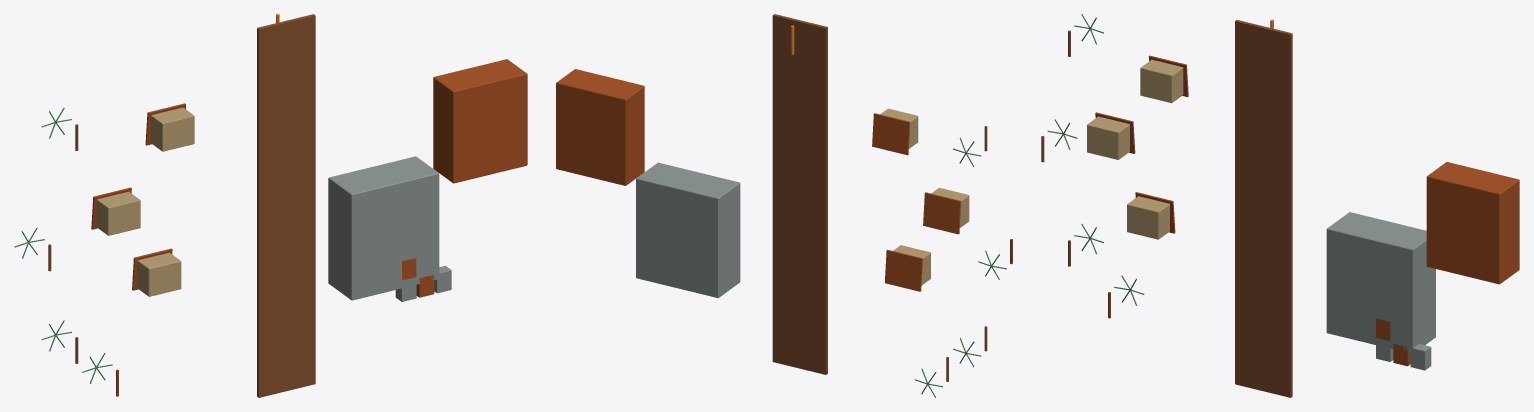
Rendered from pf_coast_run_port_town.glb.
The picture shows the model from 3 angles, left to right: view 1: azimuth 30°, elevation 25°; view 2: azimuth 150°, elevation 25°; view 3: azimuth 330°, elevation 25°; orthographic projection. The views are drawn at different scales.
Visible parts, largest first — view 1: town_pier, warehouse_a, warehouse_b, coast_house_wall_0, coast_house_wall_1, coast_house_wall_2; view 2: town_pier, warehouse_a, warehouse_b, coast_house_roof_1, coast_house_roof_2, coast_house_roof_0, coast_house_wall_2, coast_house_wall_1, coast_house_wall_0; view 3: town_pier, warehouse_a, warehouse_b, coast_house_wall_2, coast_house_wall_0, coast_house_wall_1, town_container_2.
Boxes of the visible parts, left/top/right/bottom form: town_pier: left=257, top=14, right=315, bottom=397; warehouse_a: left=328, top=156, right=439, bottom=300; warehouse_b: left=433, top=59, right=527, bottom=183; coast_house_wall_0: left=137, top=252, right=181, bottom=296; coast_house_wall_1: left=96, top=191, right=140, bottom=235; coast_house_wall_2: left=151, top=107, right=194, bottom=151; town_pier: left=772, top=14, right=827, bottom=374; warehouse_a: left=636, top=162, right=740, bottom=298; warehouse_b: left=556, top=69, right=644, bottom=185; coast_house_roof_1: left=923, top=192, right=961, bottom=234; coast_house_roof_2: left=872, top=113, right=910, bottom=155; coast_house_roof_0: left=885, top=249, right=922, bottom=291; coast_house_wall_2: left=880, top=108, right=918, bottom=148; coast_house_wall_1: left=931, top=187, right=969, bottom=227; coast_house_wall_0: left=893, top=245, right=930, bottom=285; town_pier: left=1235, top=20, right=1292, bottom=397; warehouse_a: left=1326, top=212, right=1435, bottom=353; warehouse_b: left=1426, top=162, right=1519, bottom=284; coast_house_wall_2: left=1140, top=59, right=1183, bottom=103; coast_house_wall_0: left=1127, top=196, right=1169, bottom=239; coast_house_wall_1: left=1087, top=116, right=1129, bottom=159; town_container_2: left=1410, top=344, right=1431, bottom=370.
Bounding box in the file's own units: 71.71 × 52.1 × 7.28.
